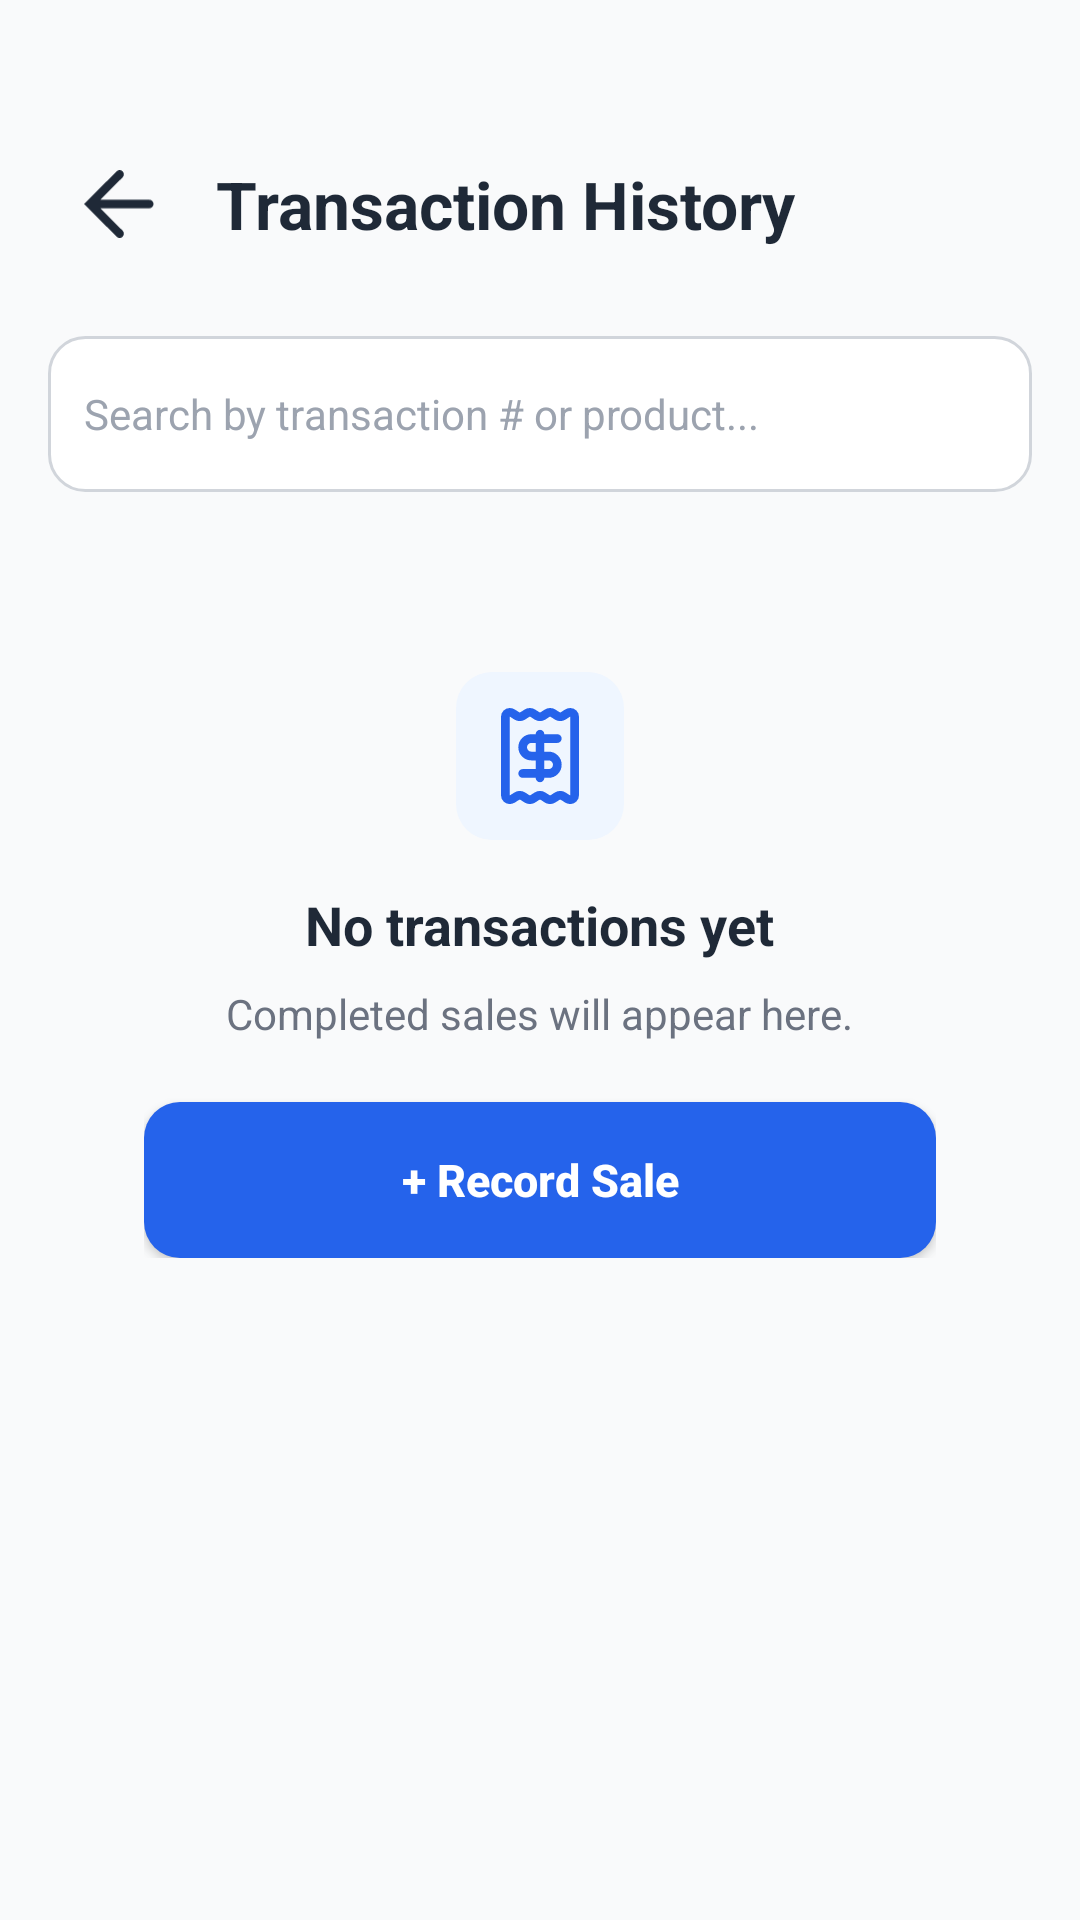

Where to tap for icons on this 1080×1920 app screen, as point (x, y):
Back to Dashboard: point (119, 204)
